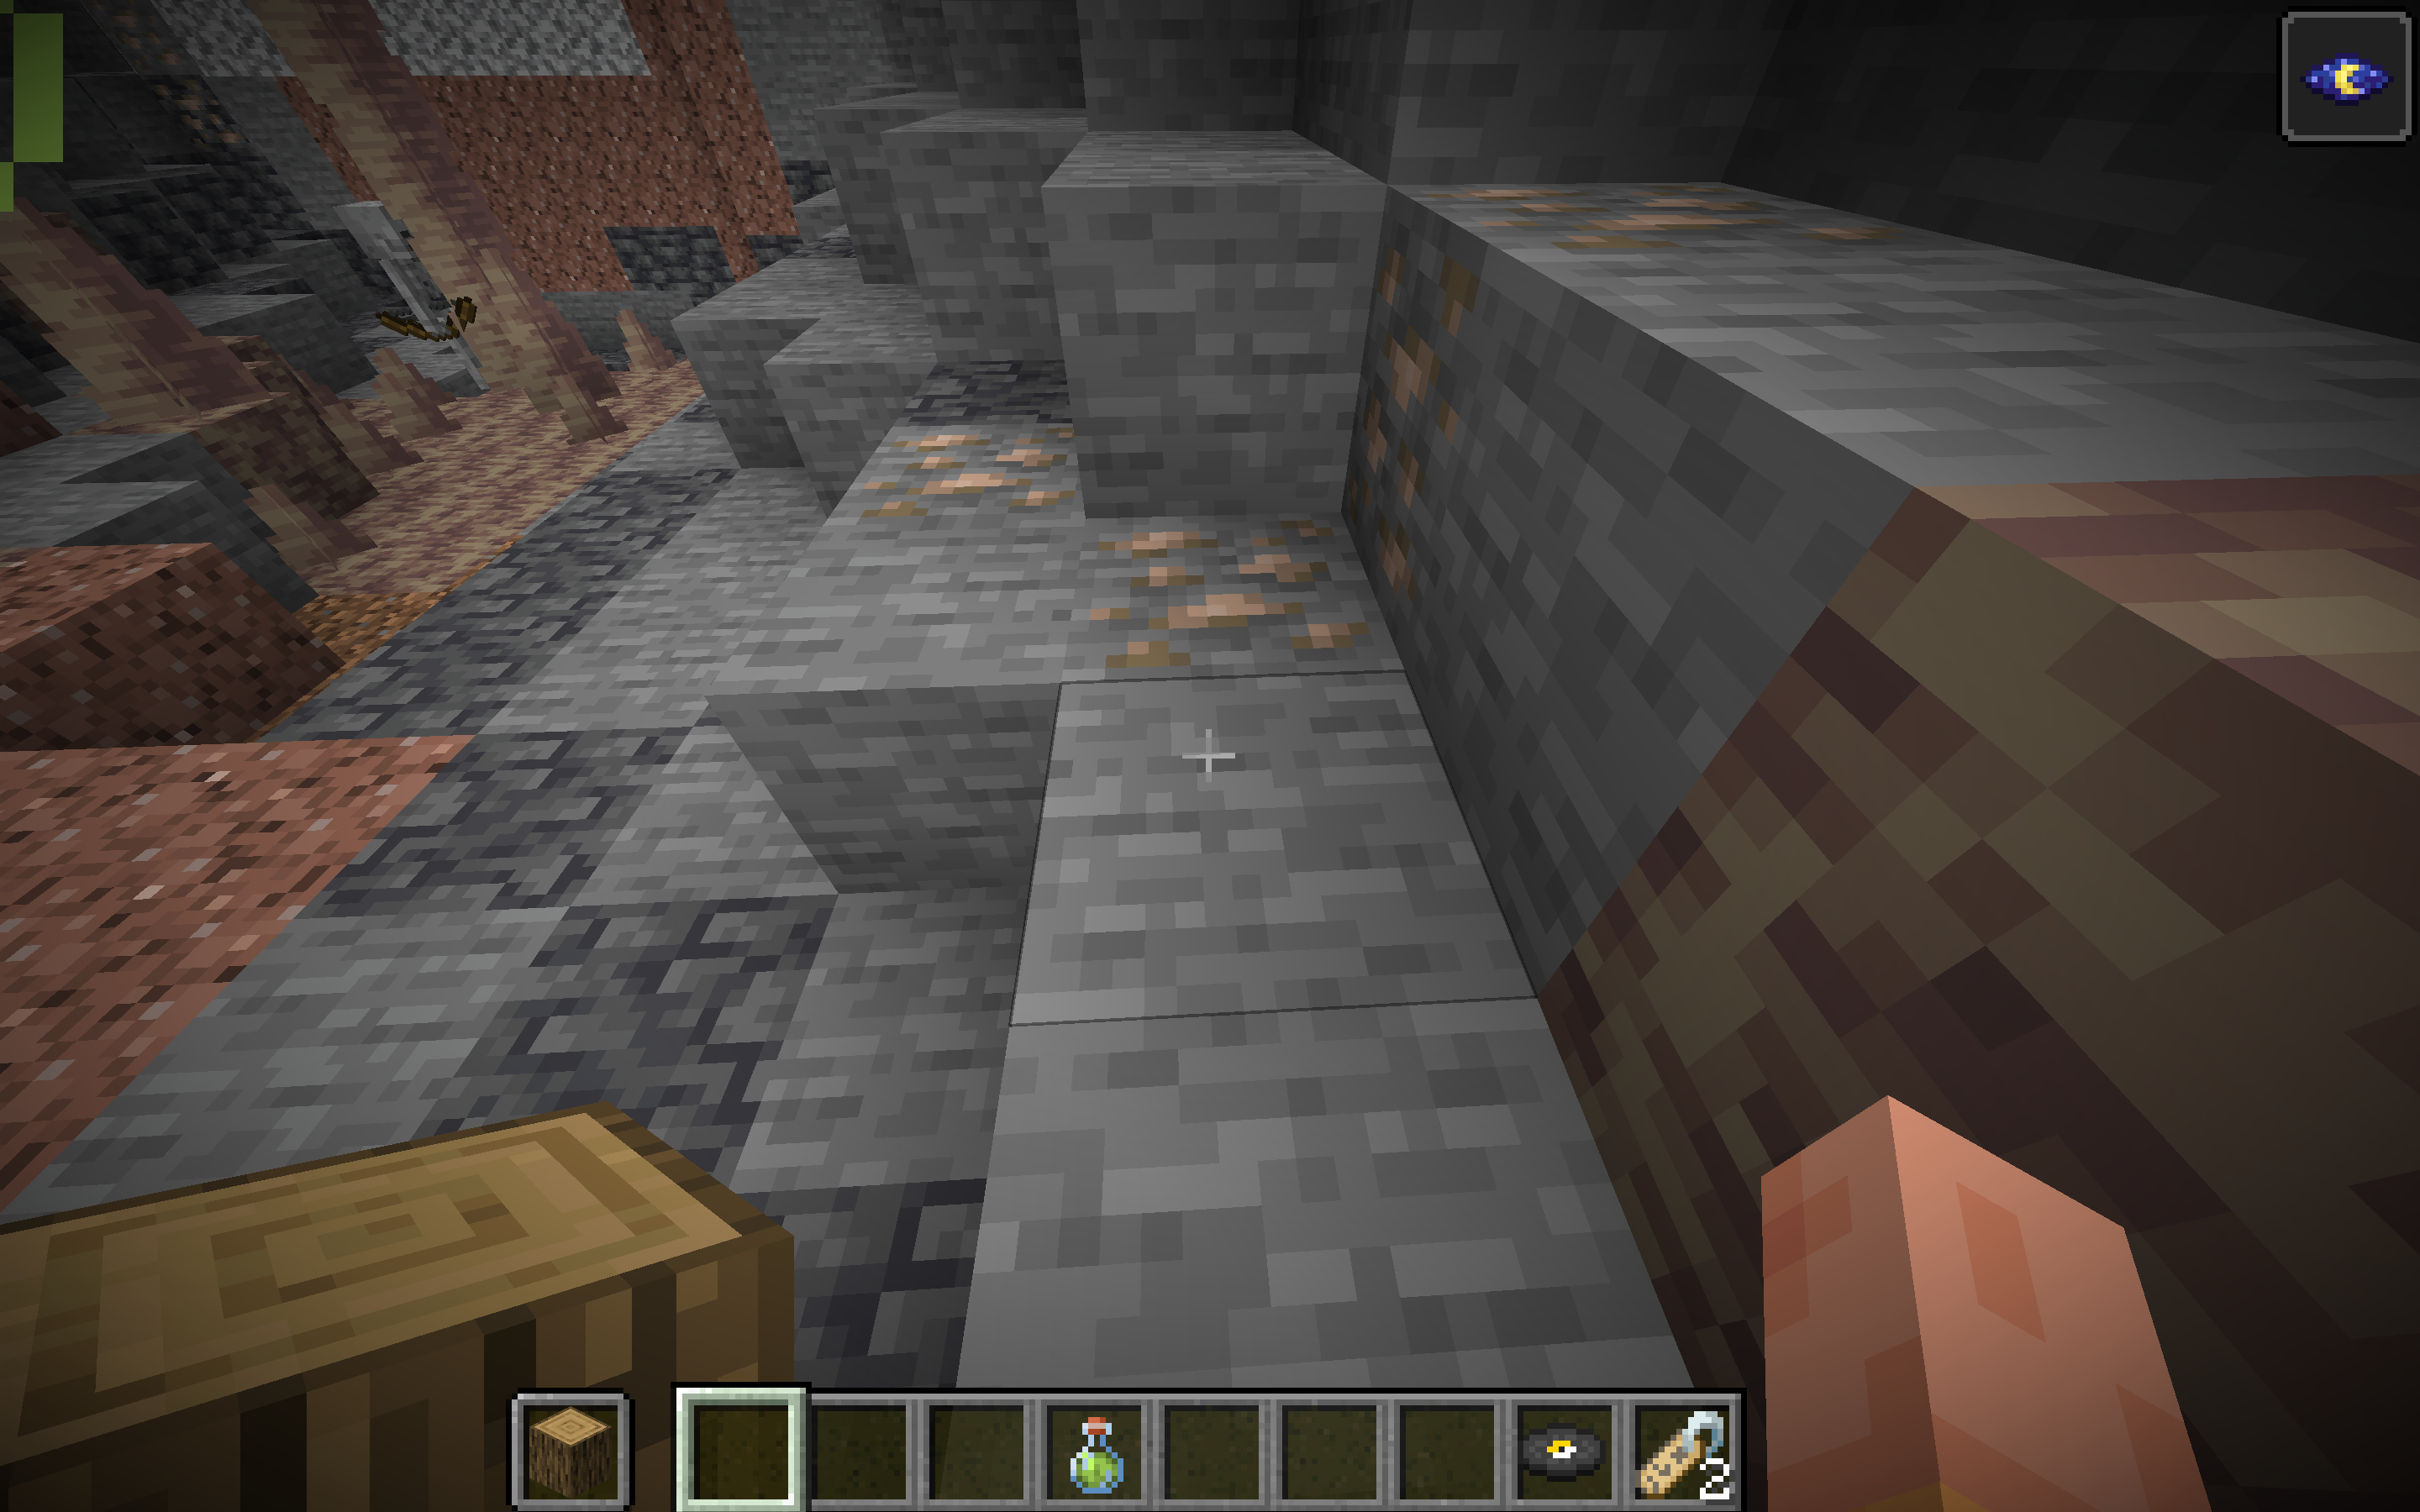iron: (709, 108, 2007, 826)
